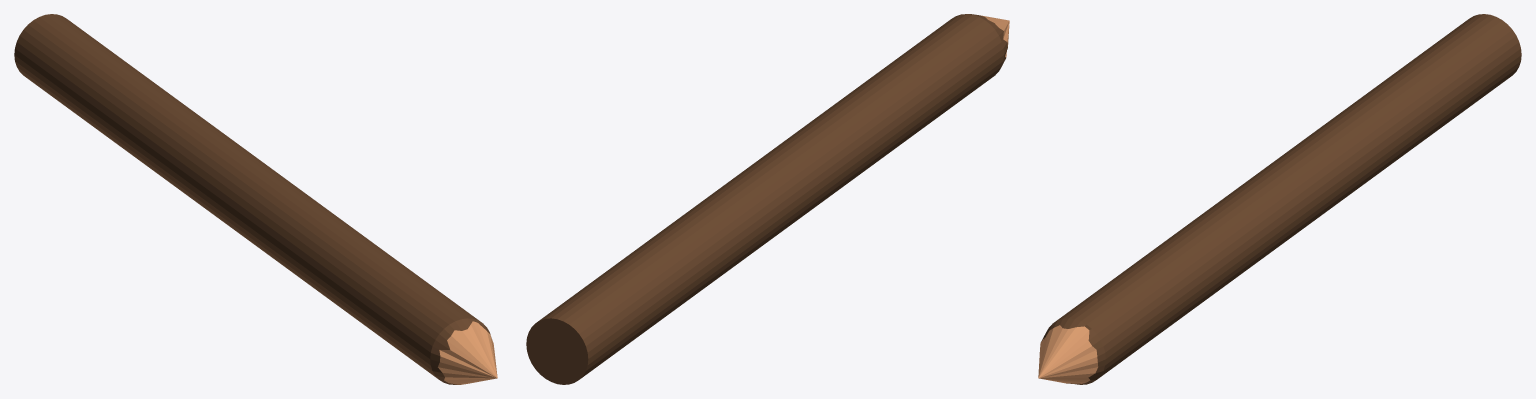
File: StoneAgeTurret5.fbx
3 renders of one model, left to right at view 1: azimuth 30°, elevation 25°; view 2: azimuth 150°, elevation 25°; view 3: azimuth 330°, elevation 25°, orthographic.
Visible parts, largest first — view 1: Cone; view 2: Cone; view 3: Cone.
Part boxes in pixels (<box>): Cone: <box>14,14,497,384</box>; Cone: <box>526,14,1009,384</box>; Cone: <box>1038,14,1521,384</box>.
Size of the model in its own units: 55.24 by 55.24 by 698.
